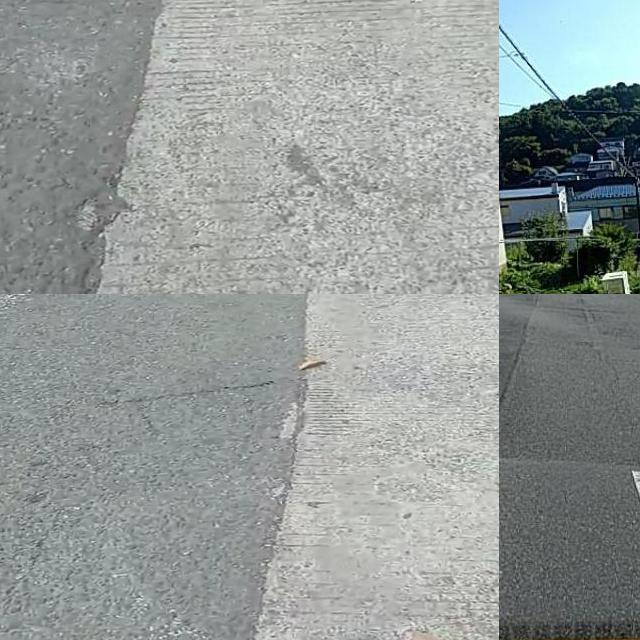Sambungan: (74, 0, 499, 294), (253, 294, 499, 640)
